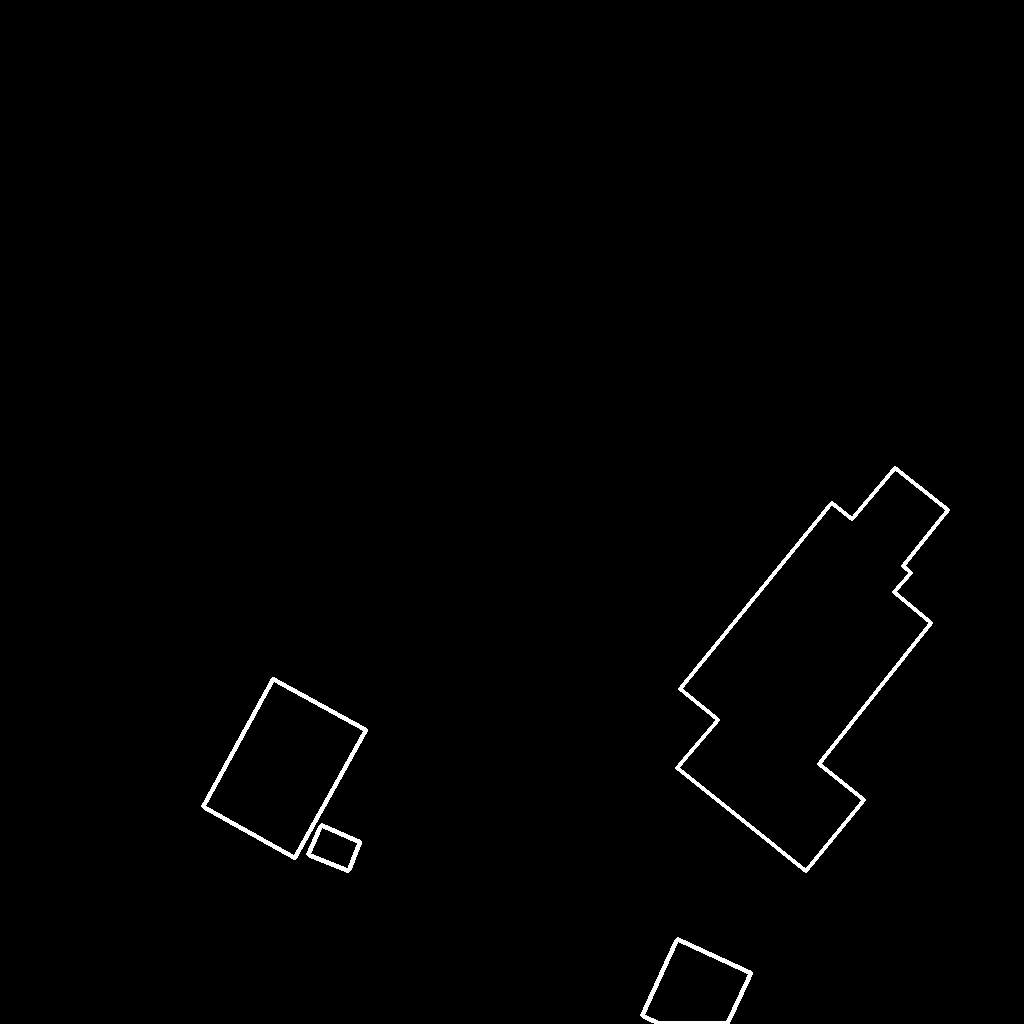building: (677, 468, 949, 872), (203, 679, 367, 859), (642, 939, 752, 1024), (308, 825, 361, 872)
